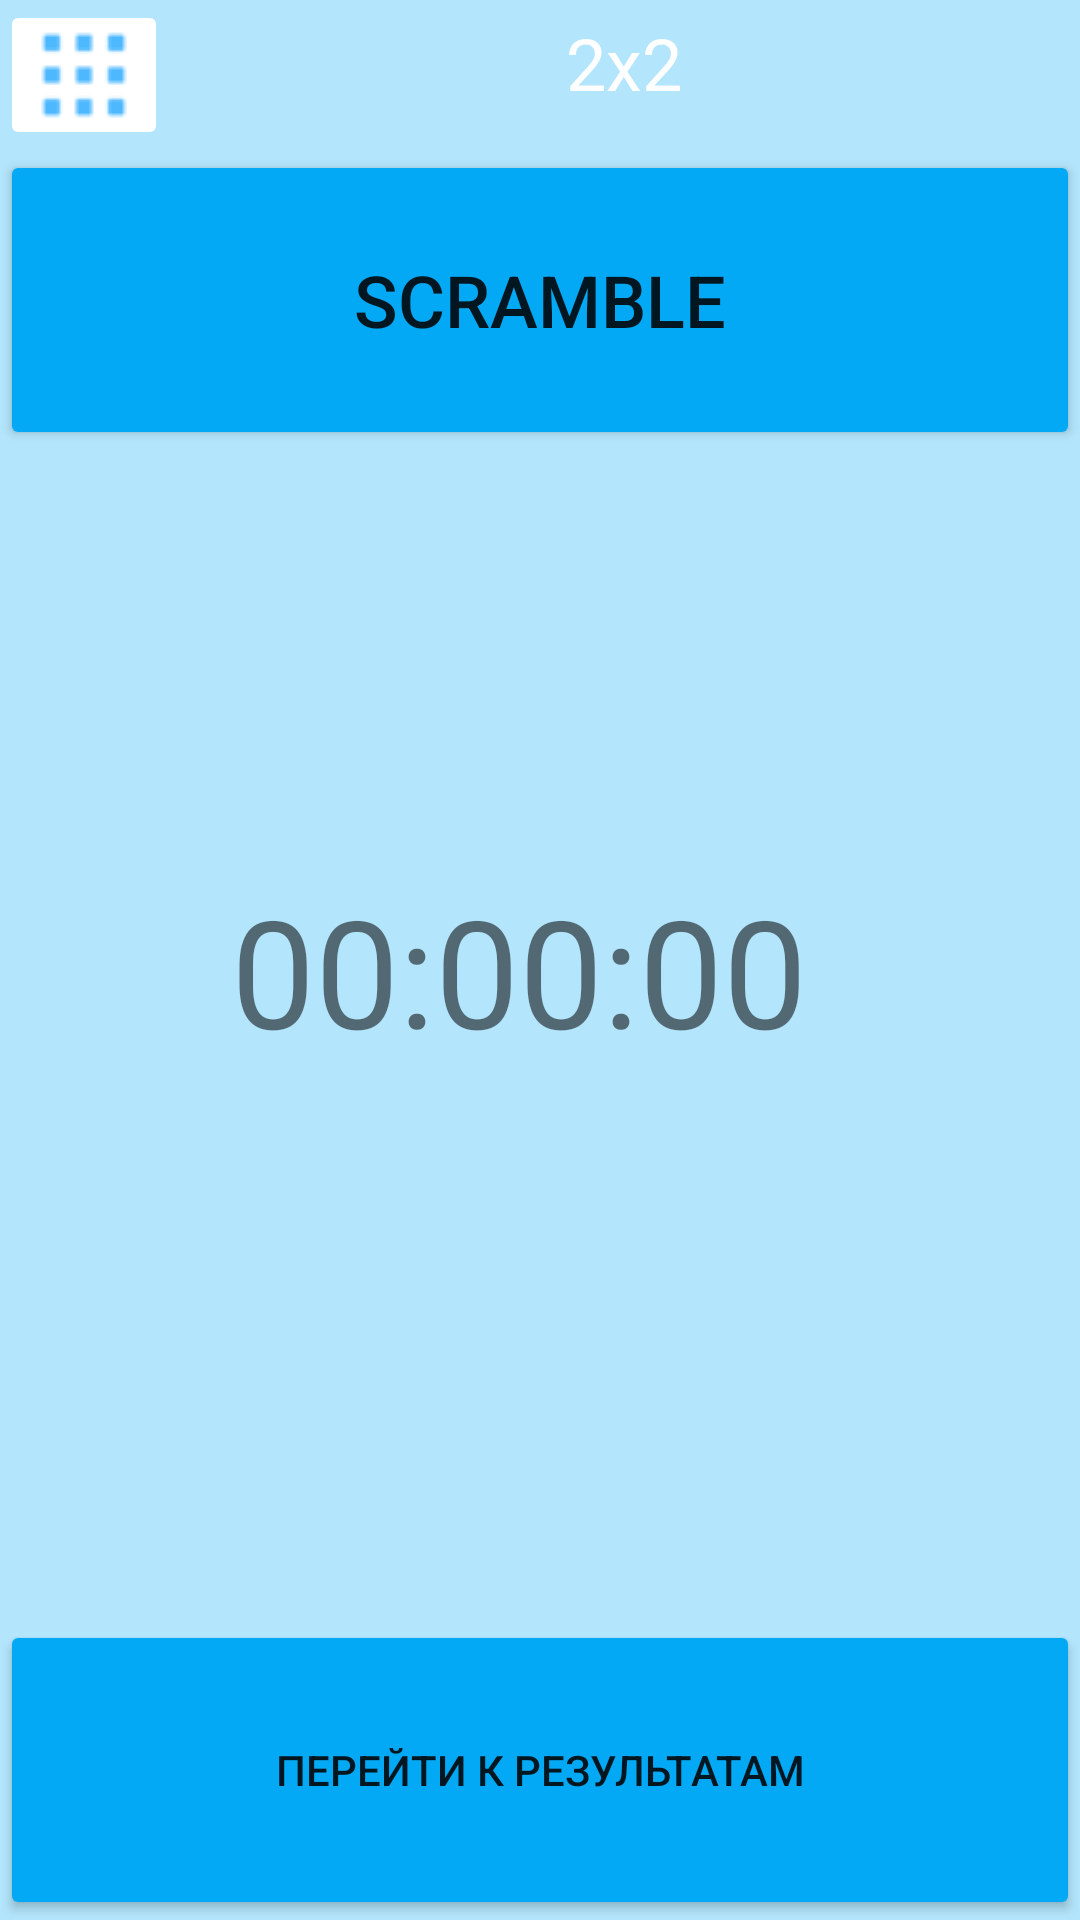

Named icons in this screenshot (1080px×1920px) and their centers, (x=x, y=y):
menu: (x=84, y=75)
